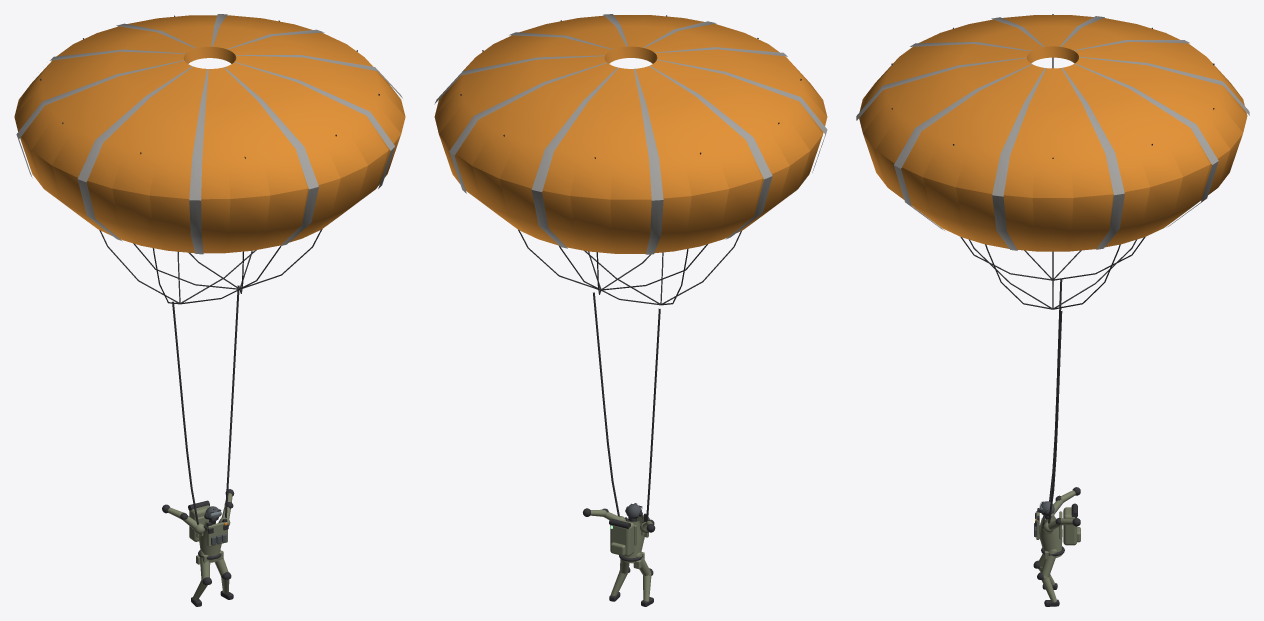
File: battle-royale-town-and-airfield-operator-parachute-dro-5e3339fc__28245.glb
3 renders of one model, left to right at view 1: azimuth 30°, elevation 25°; view 2: azimuth 150°, elevation 25°; view 3: azimuth 270°, elevation 25°, orthographic.
Parts seen in each view (by area): view 1: operator-parachute-drop; view 2: operator-parachute-drop; view 3: operator-parachute-drop.
Part boxes in pixels (x1,y1,x2,y2): operator-parachute-drop: (14, 14, 405, 606); operator-parachute-drop: (434, 14, 827, 606); operator-parachute-drop: (856, 14, 1249, 606).
Bounding box in the file's own units: 6.21 × 9.57 × 6.31.
Materials: 7 (1 with a texture image).
